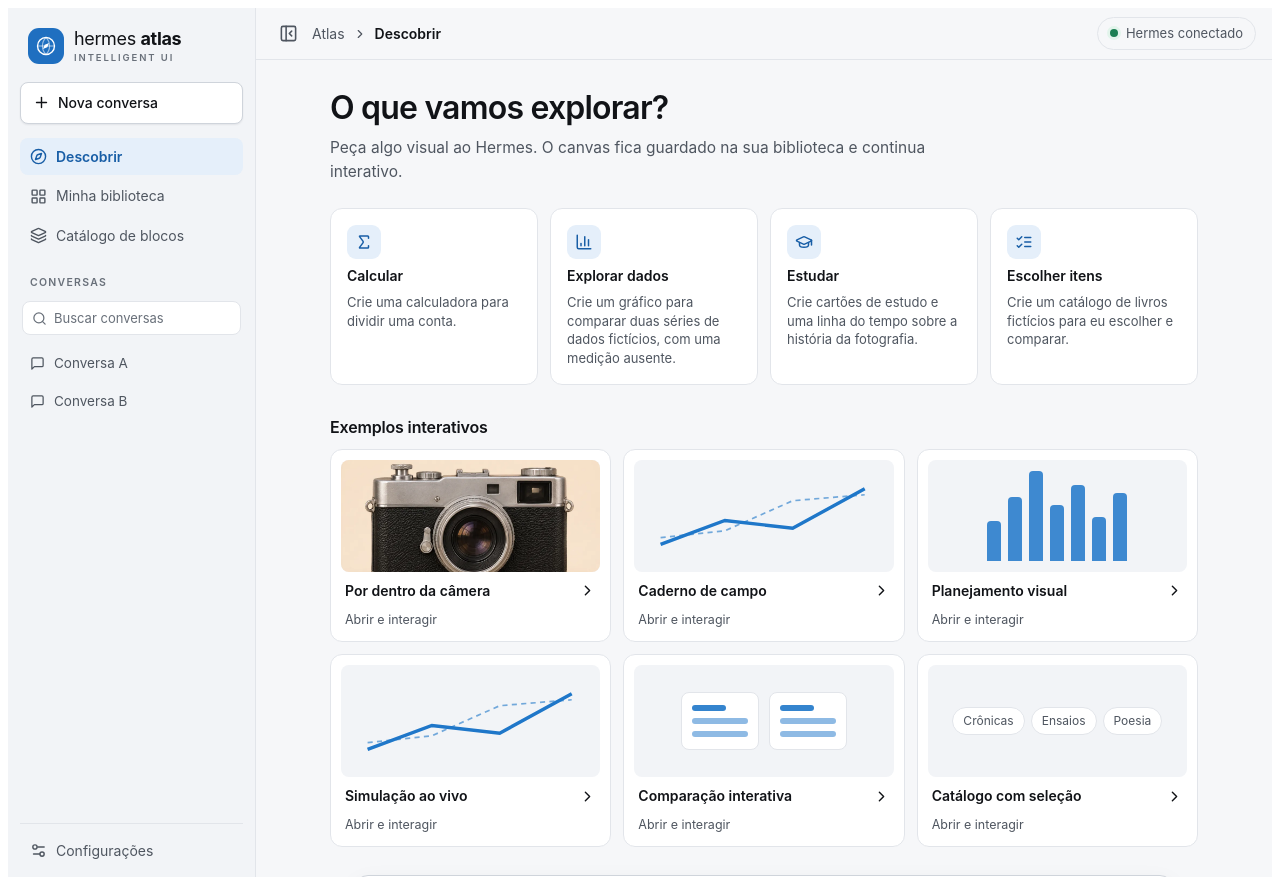
isolates per-chat drafts across navigation and restores this tab's draft after reload
Later steps or results of the test are not shown.
Click the button "Conversa A" at (132, 363), box [20,345,243,382]
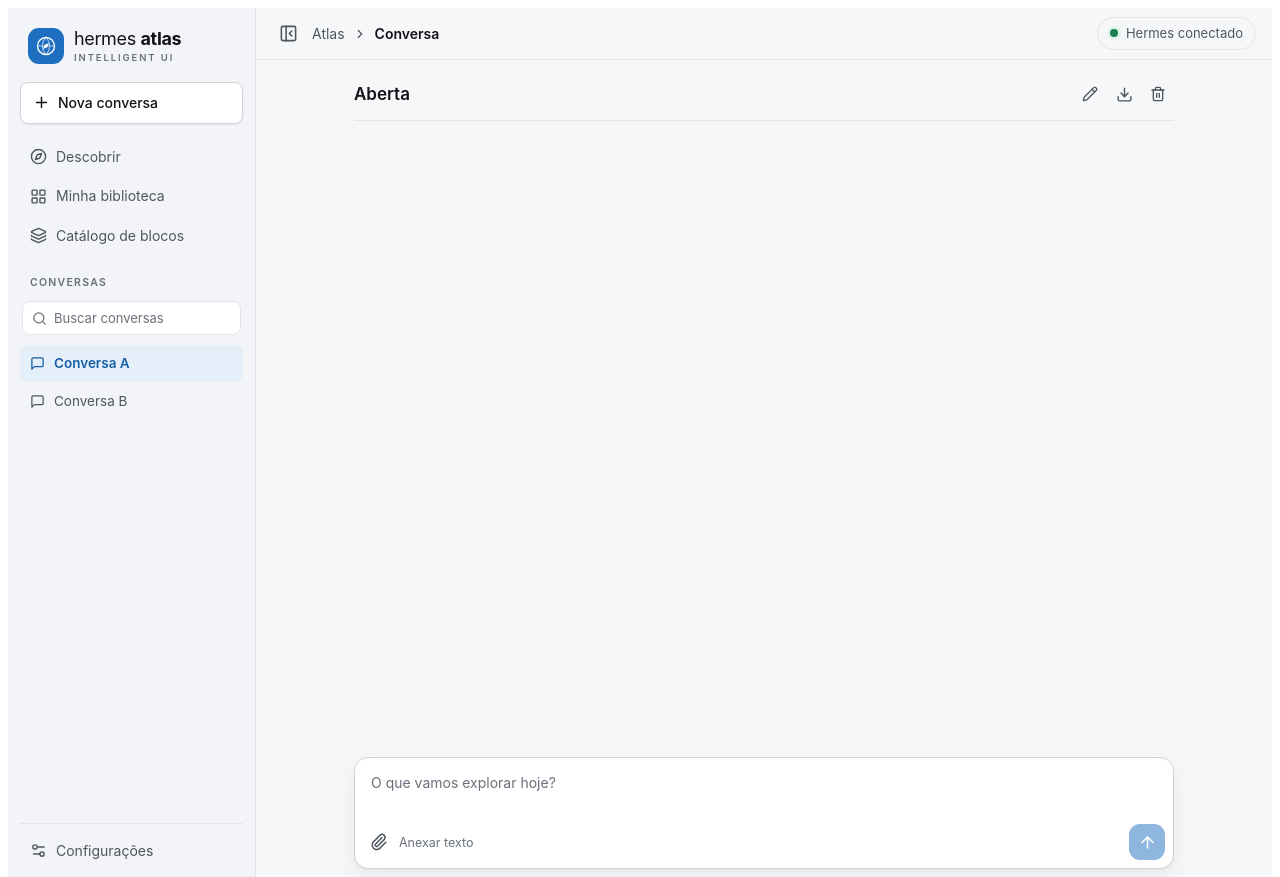
Type "privado do chat A" into the text box named "Mensagem para o Hermes" at (764, 789), box [355,758,1173,820]
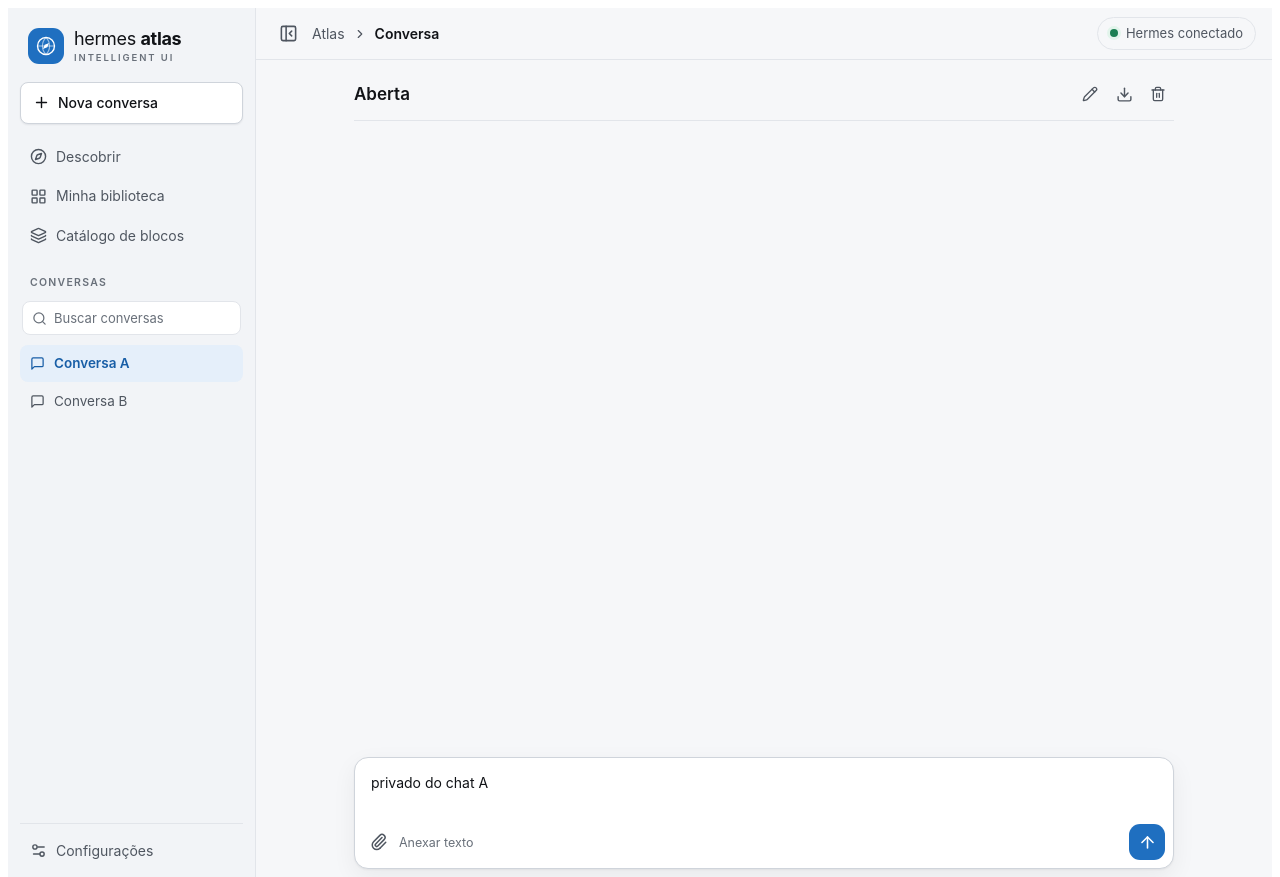
Click the button "Conversa B" at (132, 401), box [20,383,243,420]
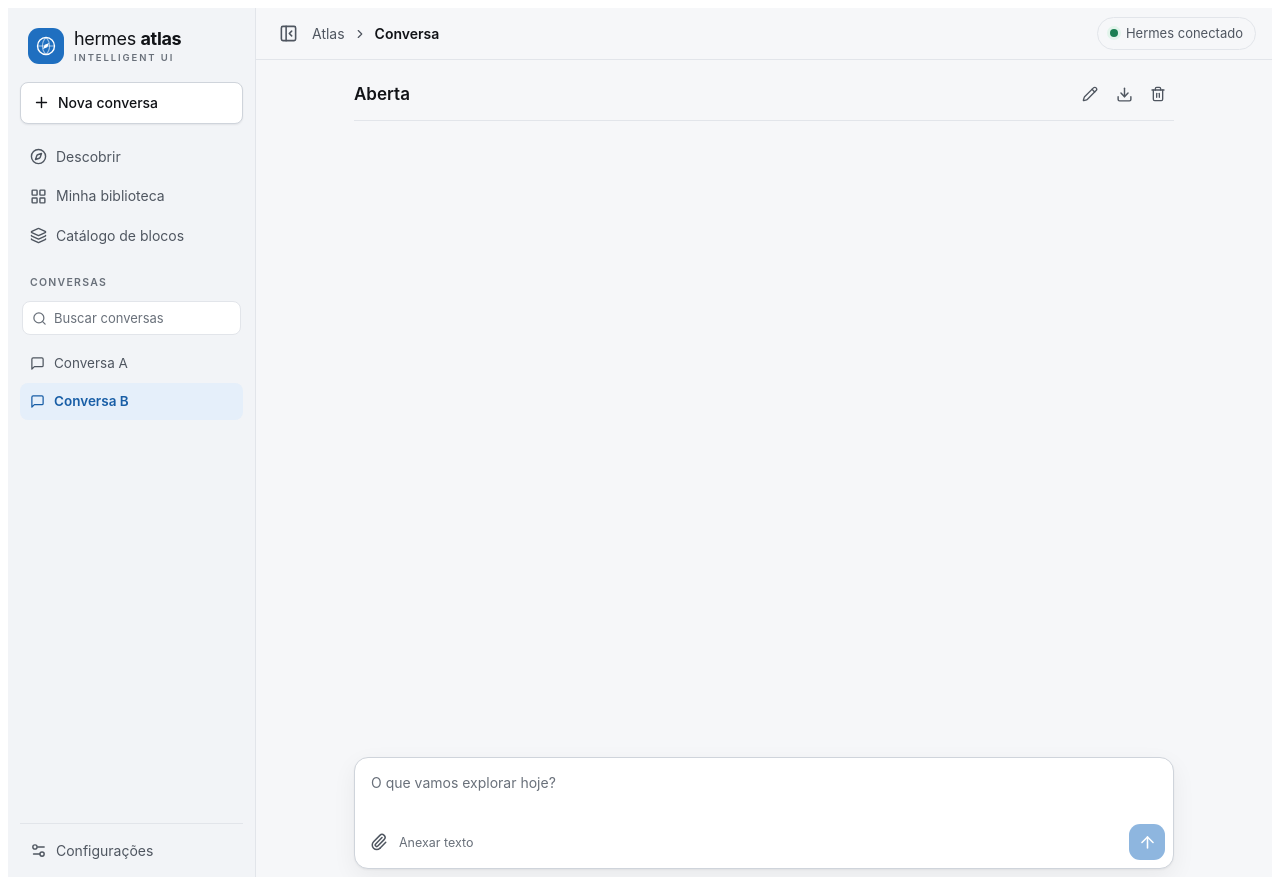
expect the text box named "Mensagem para o Hermes" is empty: met, box [355,758,1173,820]
